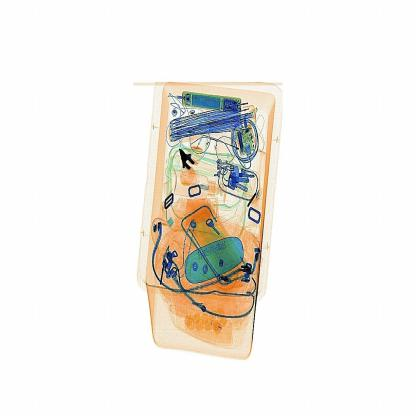gun: (176, 140, 212, 199)
